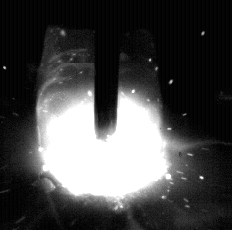arame: (95, 0, 119, 139)
poca: (37, 0, 169, 230)
